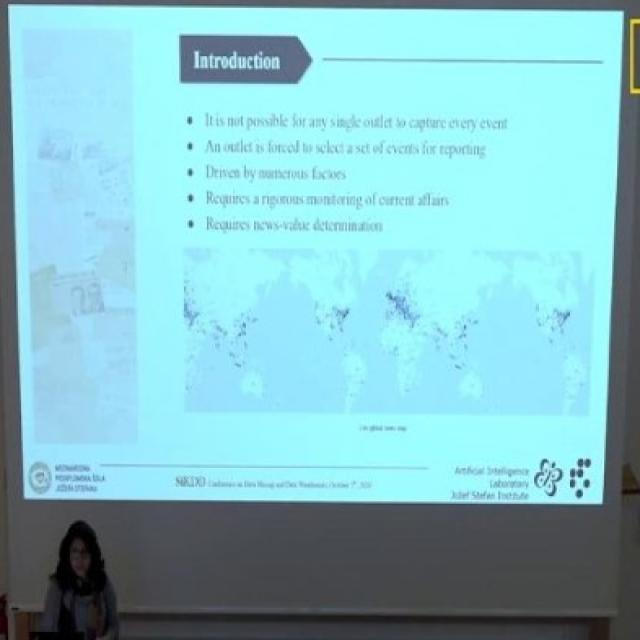Instructor: (41, 518, 133, 630)
Slide: (5, 6, 621, 504)
